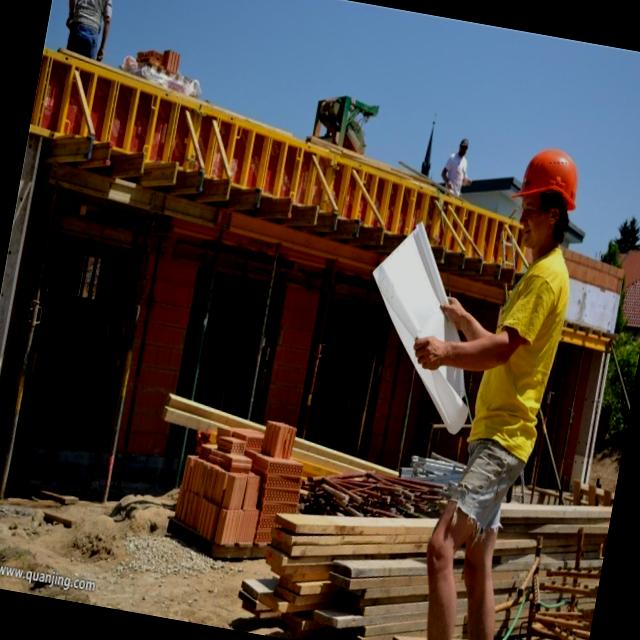helmet: (501, 141, 589, 238)
no-vest: (468, 238, 576, 464)
